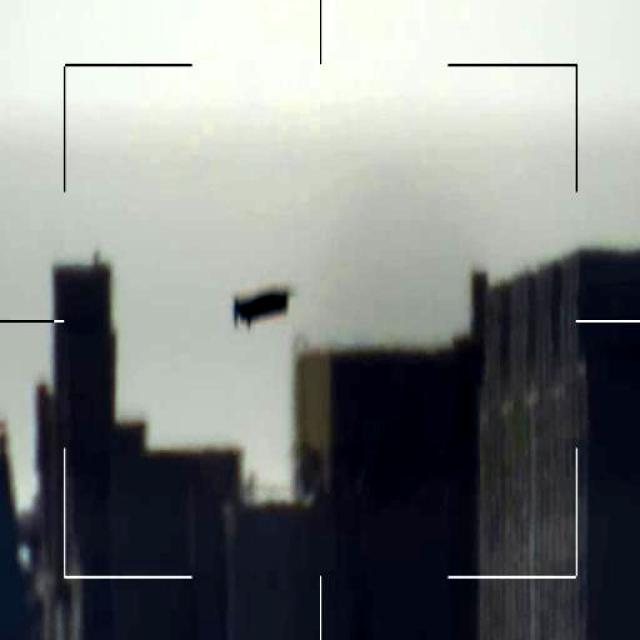bird: (231, 284, 291, 328)
